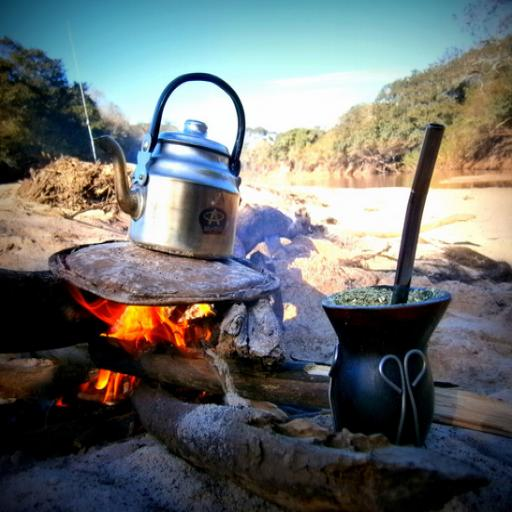mate: (322, 280, 456, 457)
